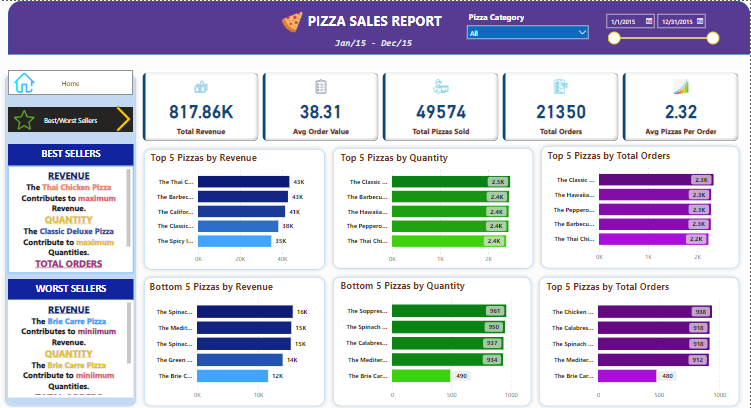

The dashboard page shown, as its layout file describes it:
{"tool":"powerbi","page":{"name":"Best/Worst Sellers","canvas":[1500,820],"ordinal":1},"visuals":[{"type":"shape","box":[1.9,138.1,278.2,680.9],"z":0},{"type":"textbox","box":[15.6,286,251,42.8],"z":1000},{"type":"cardVisual","fields":{"Data":["pizza_sales.Total Revenue","pizza_sales.Avg Order Value","pizza_sales.Total Pizzas Sold","pizza_sales.Total Orders","pizza_sales.Avg Pizzas Per Order"]},"box":[280.2,138.1,1206.2,147.9],"z":2000},{"type":"shape","box":[15.6,0,1484.4,107],"z":3000},{"type":"textbox","box":[598.4,15.7,303.1,53.1],"z":4000},{"type":"textbox","box":[620.1,68.9,253.9,53.1],"z":5000},{"type":"image","box":[547.2,15.7,72.8,53.1],"z":6000},{"type":"shape","box":[280.2,287.9,377.4,256.8],"z":7000},{"type":"textbox","box":[15.6,330.7,251,214],"z":8000},{"type":"textbox","box":[15.6,556.4,251,40.9],"z":9000},{"type":"textbox","box":[15.6,597.3,251,194.6],"z":10000},{"type":"slicer","fields":{"Values":["pizza_sales.pizza_category"]},"box":[924.1,15.6,262.6,105.1],"z":11000},{"type":"slicer","fields":{"Values":["pizza_sales.order_date"]},"box":[1200.4,15.6,247.1,105.1],"z":12000},{"type":"shape","box":[657.6,286,416.3,256.8],"z":13000},{"type":"shape","box":[1073.9,282.1,412.5,260.7],"z":14000},{"type":"shape","box":[280.2,544.7,377.4,274.3],"z":15000},{"type":"shape","box":[657.6,544.7,412.5,274.3],"z":16000},{"type":"shape","box":[1070,544.7,416.3,274.3],"z":17000},{"type":"barChart","title":"Top 5 Pizzas by Revenue","fields":{"Category":["pizza_sales.pizza_name"],"Y":["pizza_sales.Total Revenue"]},"box":[295.7,299.6,348.2,233.5],"z":18000},{"type":"barChart","title":"Bottom 5 Pizzas by Revenue","fields":{"Category":["pizza_sales.pizza_name"],"Y":["pizza_sales.Total Revenue"]},"box":[293.8,558.4,348.2,247.1],"z":19000},{"type":"barChart","title":"Top 5 Pizzas by Quantity","fields":{"Category":["pizza_sales.pizza_name"],"Y":["pizza_sales.Total Pizzas Sold"]},"box":[675.1,299.6,381.3,233.5],"z":20000},{"type":"barChart","title":"Bottom 5 Pizzas by Quantity","fields":{"Category":["pizza_sales.pizza_name"],"Y":["pizza_sales.Total Pizzas Sold"]},"box":[675.1,556.4,381.3,249],"z":21000},{"type":"barChart","title":"Top 5 Pizzas by Total Orders","fields":{"Category":["pizza_sales.pizza_name"],"Y":["pizza_sales.Total Orders"]},"box":[1089.5,295.7,381.3,233.5],"z":22000},{"type":"barChart","title":"Top 5 Pizzas by Total Orders","fields":{"Category":["pizza_sales.pizza_name"],"Y":["pizza_sales.Total Orders"]},"box":[1087.5,558.4,381.3,247.1],"z":23000},{"type":"pageNavigator","box":[15.6,212.1,251,50.6],"z":24000},{"type":"pageNavigator","box":[15.6,138.1,251,50.6],"z":25000},{"type":"image","box":[200.4,206.2,93.4,60.3],"z":26000},{"type":"image","box":[0,138.1,97.3,50.6],"z":27000},{"type":"image","box":[0,212.1,97.3,50.6],"z":28000}]}

Visuals, with their boxes in screenshot pixels (x1, y1, x2, y2), scaled from the page's 1500x820 canvas onto the 751x408 screenshot:
shape: x1=1 y1=69 x2=140 y2=407
textbox: x1=8 y1=142 x2=133 y2=164
cardVisual - pizza_sales.Total Revenue x pizza_sales.Avg Order Value: x1=140 y1=69 x2=744 y2=142
shape: x1=8 y1=0 x2=750 y2=53
textbox: x1=300 y1=8 x2=451 y2=34
textbox: x1=310 y1=34 x2=438 y2=61
image: x1=274 y1=8 x2=310 y2=34
shape: x1=140 y1=143 x2=329 y2=271
textbox: x1=8 y1=165 x2=133 y2=271
textbox: x1=8 y1=277 x2=133 y2=297
textbox: x1=8 y1=297 x2=133 y2=394
slicer - pizza_sales.pizza_category: x1=463 y1=8 x2=594 y2=60
slicer - pizza_sales.order_date: x1=601 y1=8 x2=725 y2=60
shape: x1=329 y1=142 x2=538 y2=270
shape: x1=538 y1=140 x2=744 y2=270
shape: x1=140 y1=271 x2=329 y2=407
shape: x1=329 y1=271 x2=536 y2=407
shape: x1=536 y1=271 x2=744 y2=407
"Top 5 Pizzas by Revenue" barChart: x1=148 y1=149 x2=322 y2=265
"Bottom 5 Pizzas by Revenue" barChart: x1=147 y1=278 x2=321 y2=401
"Top 5 Pizzas by Quantity" barChart: x1=338 y1=149 x2=529 y2=265
"Bottom 5 Pizzas by Quantity" barChart: x1=338 y1=277 x2=529 y2=401
"Top 5 Pizzas by Total Orders" barChart: x1=545 y1=147 x2=736 y2=263
"Top 5 Pizzas by Total Orders" barChart: x1=544 y1=278 x2=735 y2=401
pageNavigator: x1=8 y1=106 x2=133 y2=131
pageNavigator: x1=8 y1=69 x2=133 y2=94
image: x1=100 y1=103 x2=147 y2=133
image: x1=0 y1=69 x2=49 y2=94
image: x1=0 y1=106 x2=49 y2=131
